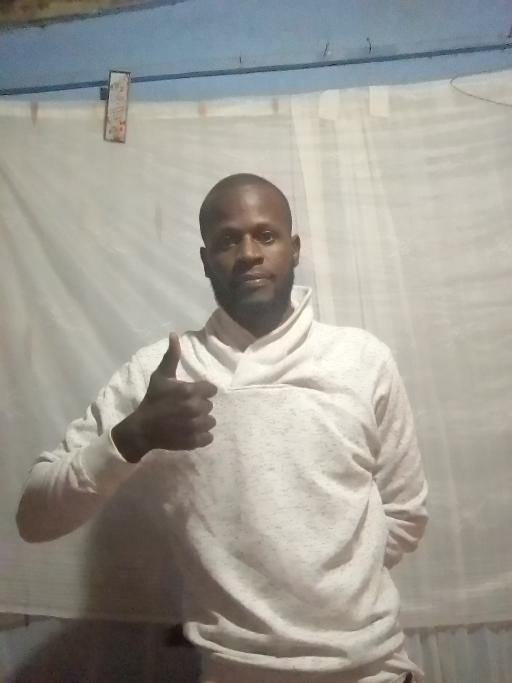like: (136, 329, 219, 451)
